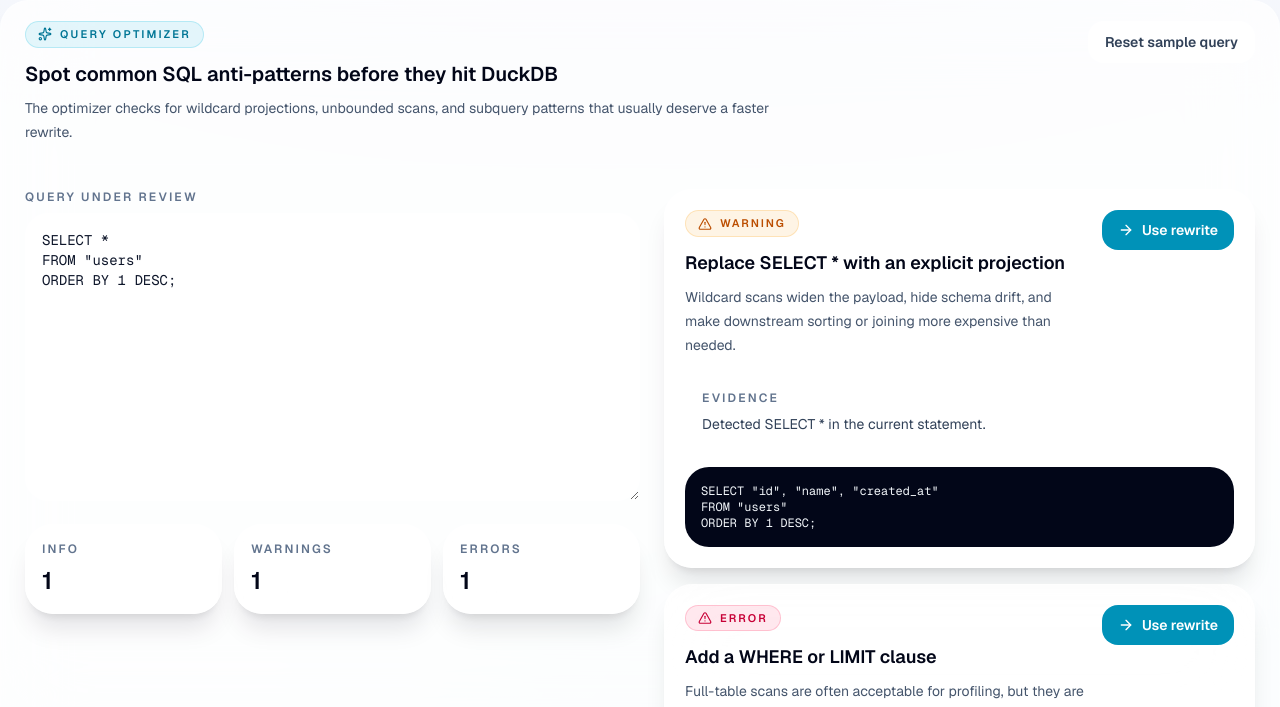
Test: QueryOptimizer › resets to sample query when clicking Reset sample query
# Apply a rewrite first
Click the 1st button "Use rewrite": (1168, 230) [1102,210,1234,250]
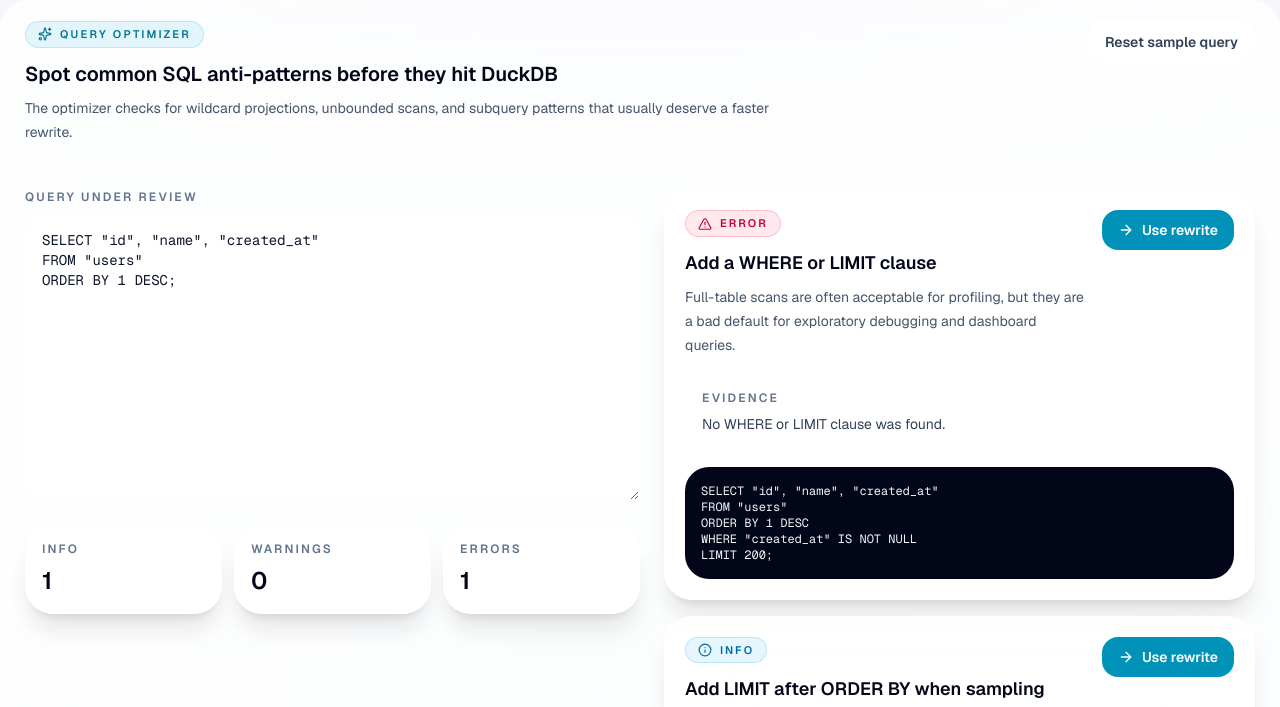
Click the button "Reset sample query": (1171, 42) [1088,21,1255,63]
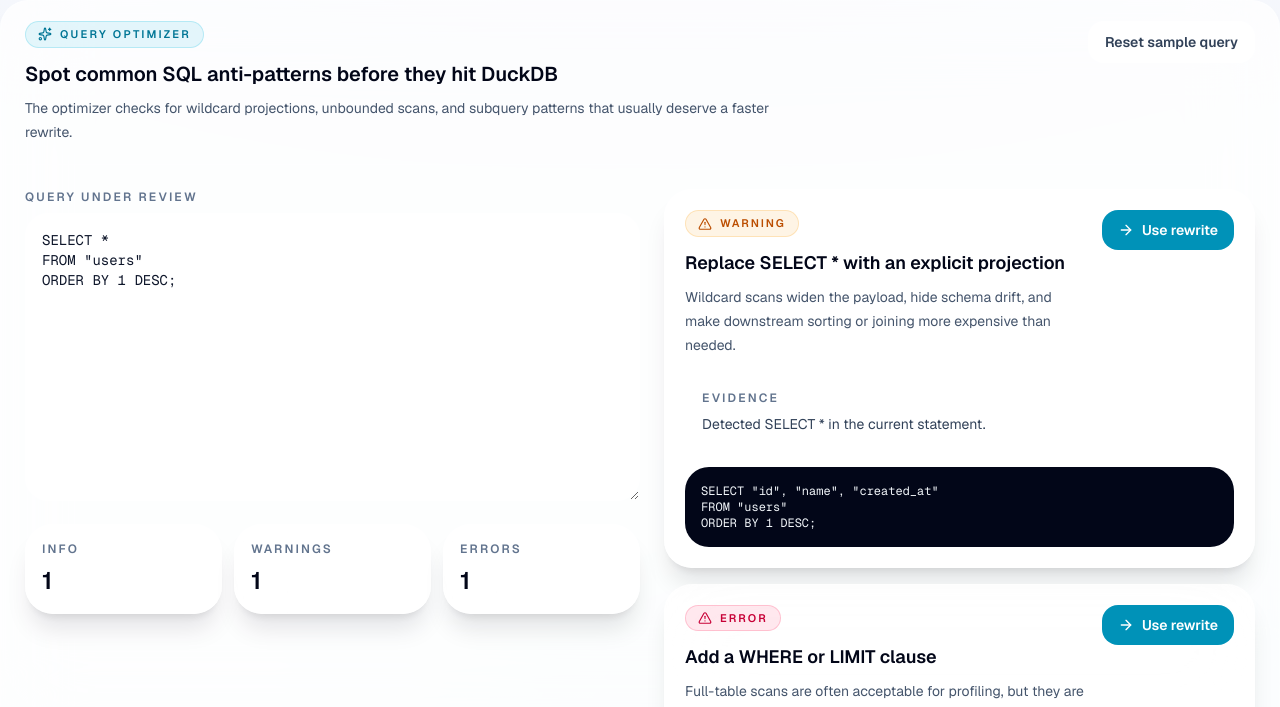
Expected: the heading "Replace SELECT * with an explicit projection" is shown, [685,249,1090,277]
